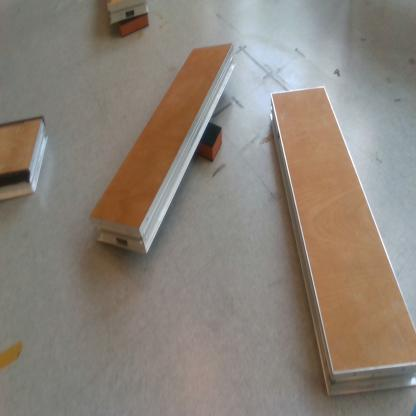Stairs: (269, 84, 416, 395), (89, 41, 239, 258), (1, 113, 51, 200), (107, 1, 150, 26)
